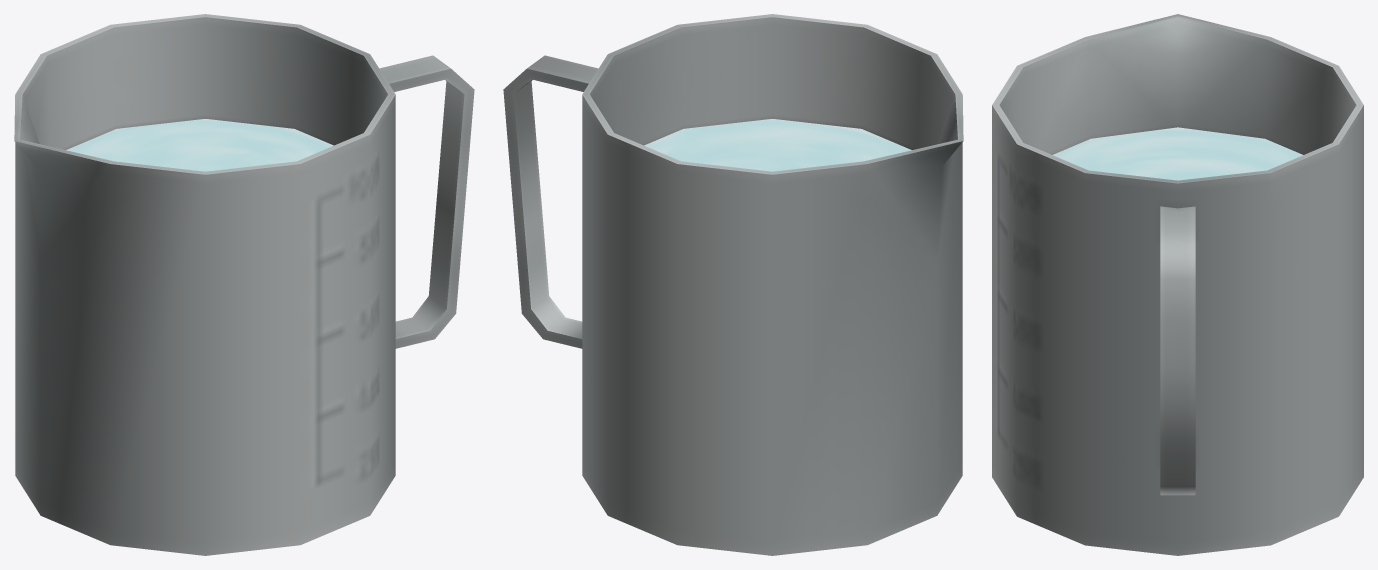
The model's file is jsf_Measuringcup_01.fbx.
3 renders of one model, left to right at view 1: azimuth 30°, elevation 25°; view 2: azimuth 150°, elevation 25°; view 3: azimuth 270°, elevation 25°, orthographic. The views are drawn at different scales.
Parts seen in each view (by area): view 1: jsf_Measuringcup_01; view 2: jsf_Measuringcup_01; view 3: jsf_Measuringcup_01.
Boxes of the visible parts, x1,y1,x2,y2 form: jsf_Measuringcup_01: (14, 14, 474, 555); jsf_Measuringcup_01: (503, 14, 963, 555); jsf_Measuringcup_01: (992, 14, 1363, 555).
Size of the model in its own units: 18.16 by 14.66 by 13.26.
